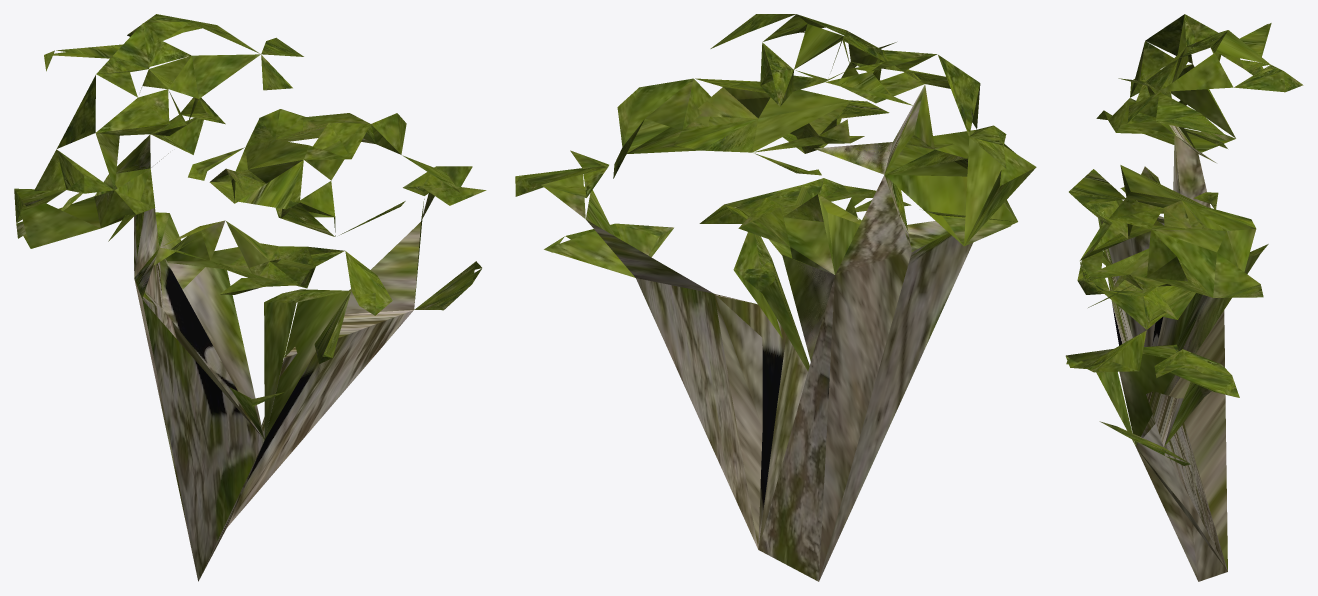
Rendered from fo_forkwood_tree_lod1.glb.
3 views of the same model, side by side, from view 1: azimuth 30°, elevation 25°; view 2: azimuth 150°, elevation 25°; view 3: azimuth 270°, elevation 25° (orthographic). The views are drawn at different scales.
Parts seen in each view (by area): view 1: output_unwrapped; view 2: output_unwrapped; view 3: output_unwrapped.
Part boxes in pixels (left/top/right/bottom): output_unwrapped: left=14, top=14, right=486, bottom=581; output_unwrapped: left=515, top=14, right=1036, bottom=581; output_unwrapped: left=1065, top=14, right=1303, bottom=581.
Bounding box in the file's own units: 1.57 × 1.75 × 0.7061.
Materials: 1 (1 with a texture image).
